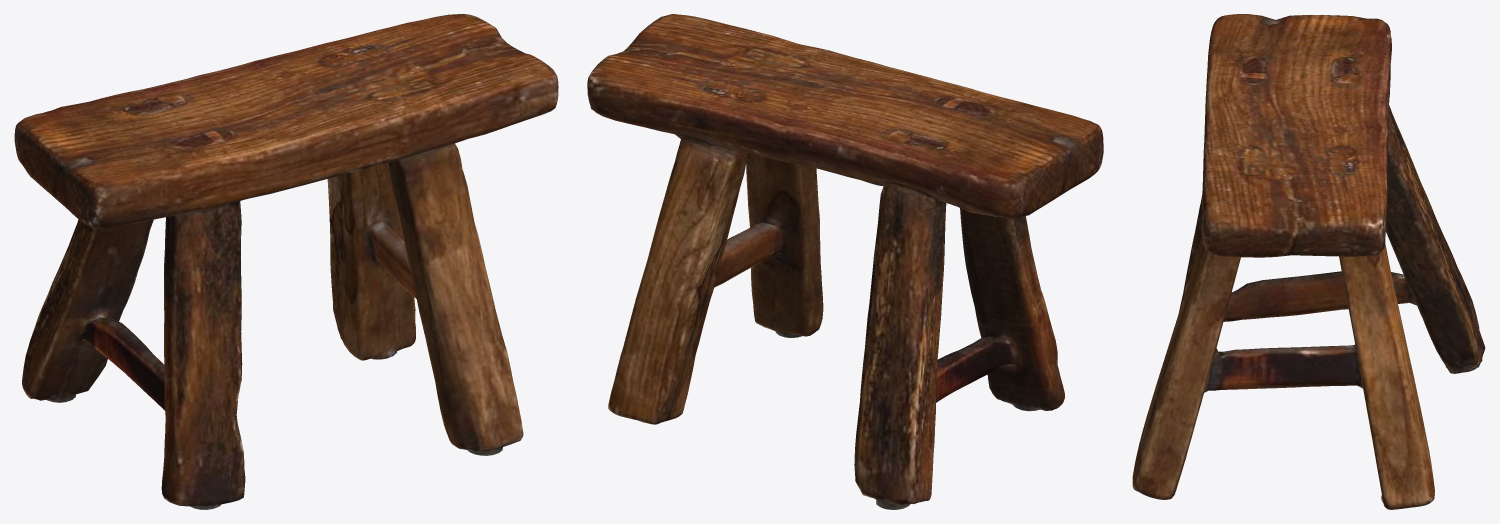
File: stool-low.glb
The picture shows the model from 3 angles, left to right: view 1: azimuth 30°, elevation 25°; view 2: azimuth 150°, elevation 25°; view 3: azimuth 270°, elevation 25°; orthographic projection. The views are drawn at different scales.
Visible parts, largest first — view 1: wooden_stool_02; view 2: wooden_stool_02; view 3: wooden_stool_02.
Boxes of the visible parts, box(x1,y1,x2,y2) form: wooden_stool_02: box(14, 14, 558, 509); wooden_stool_02: box(587, 14, 1103, 509); wooden_stool_02: box(1132, 14, 1485, 509).
Bounding box in the file's own units: 0.2652 × 0.1819 × 0.1831.
Materials: 1 (1 with a texture image).
